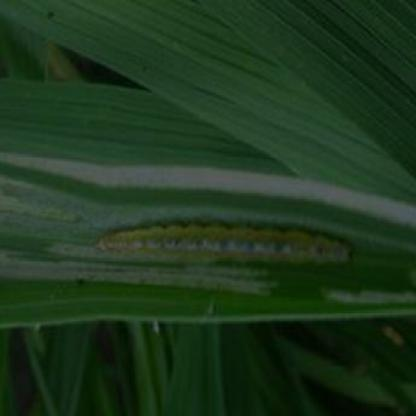leaf-folder: (92, 202, 358, 286)
